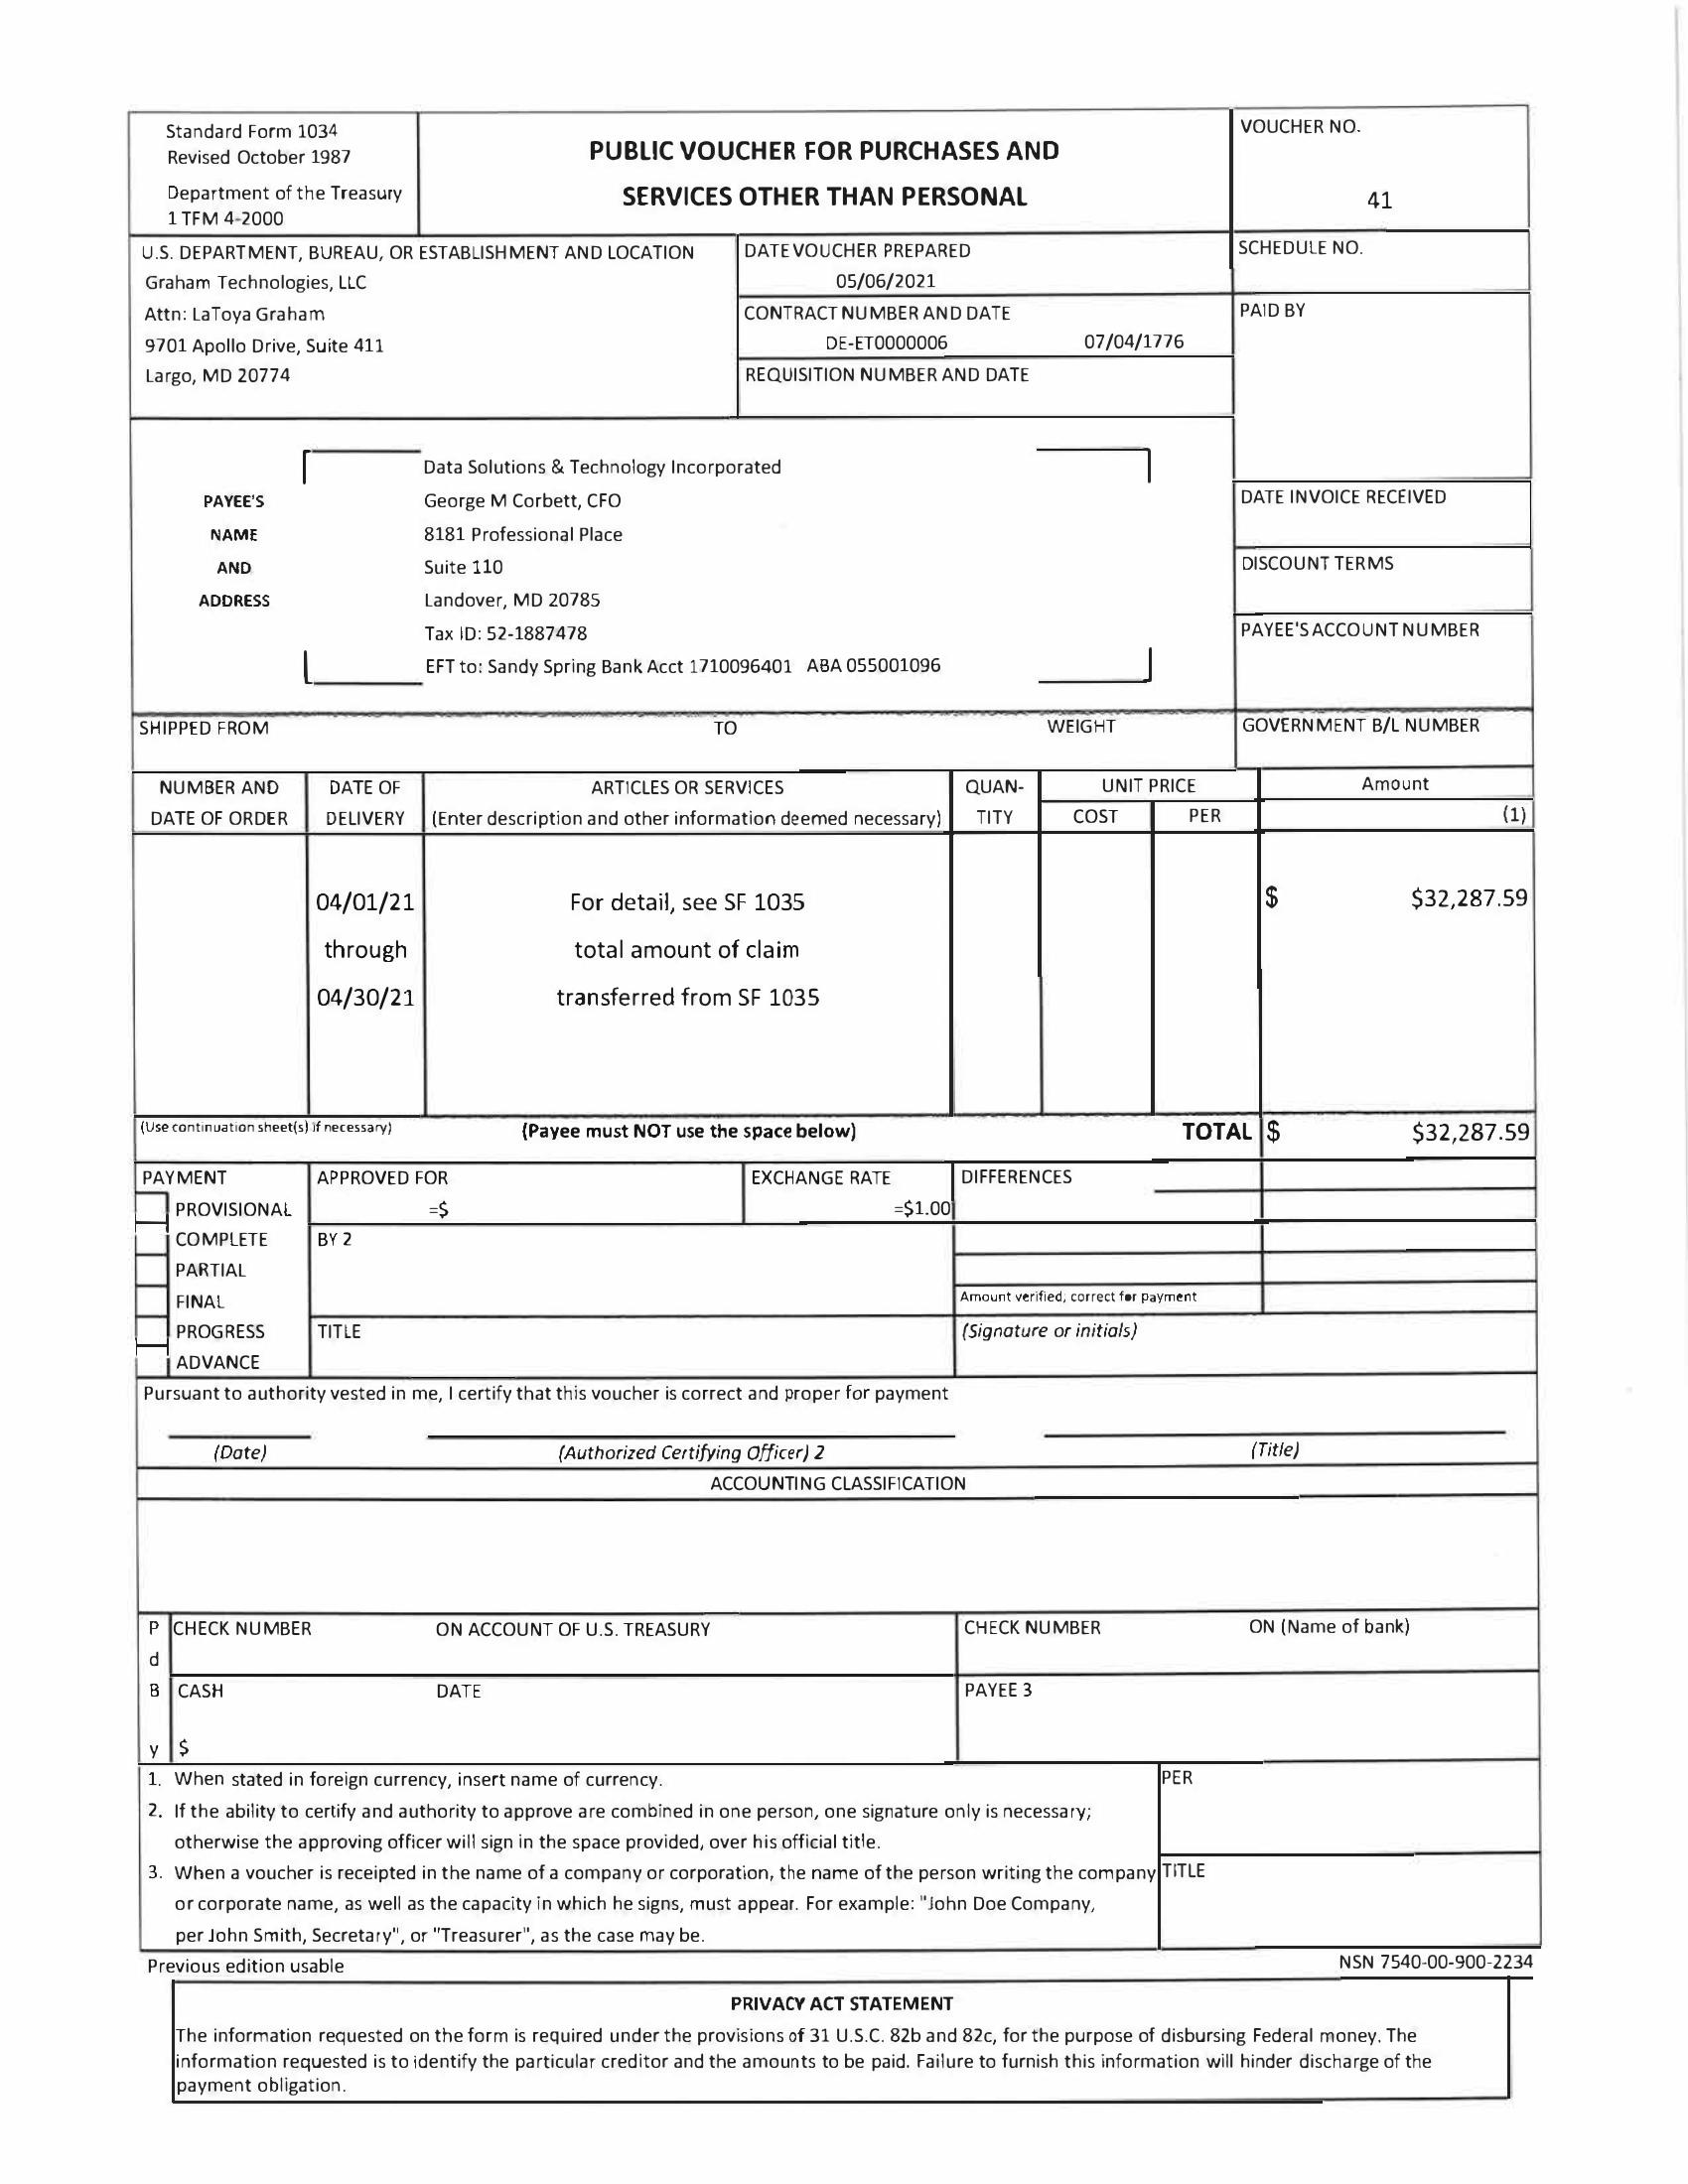table: (131, 768, 1555, 1113)
